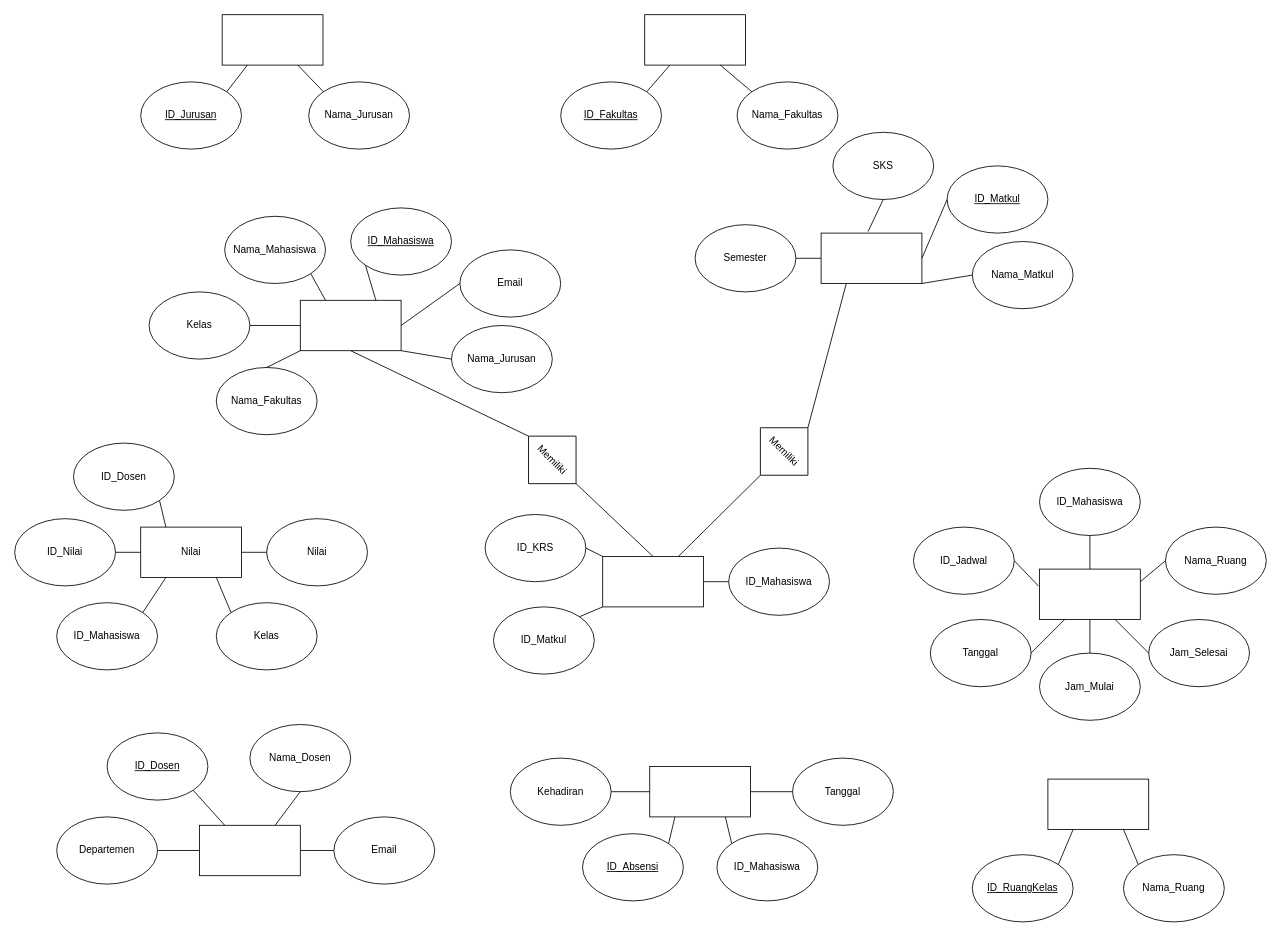
The diagram is 1281 pixels wide and 937 high, and some of its shapes have lost their labels. Here are the shapes that lost their labels. From the top down, the centre of each, then its label:
At point (272, 39): "Jurusan".
At point (695, 39): "Fakultas".
At point (871, 258): "MataKuliah".
At point (350, 325): "Mahasiswa".
At point (653, 581): "KRS".
At point (1089, 594): "Jadwal".
At point (700, 791): "Absensi".
At point (1098, 804): "Ruang_Kelas".
At point (249, 850): "Dosen".
